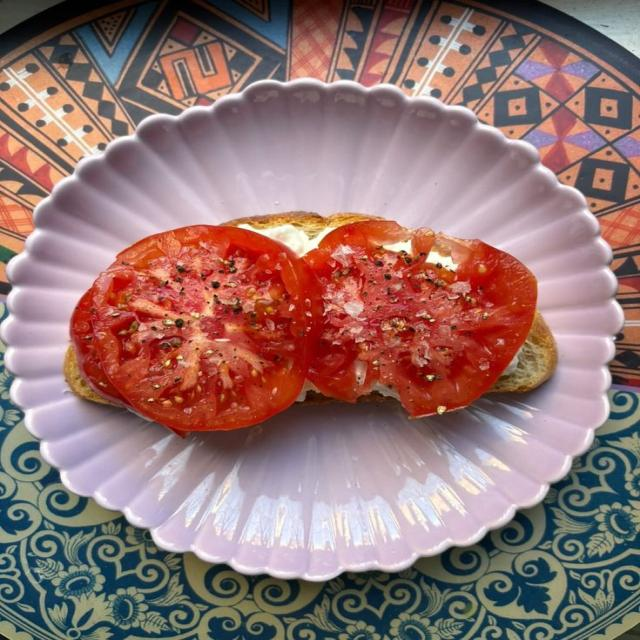sliced_bread: (224, 211, 379, 254), (487, 312, 556, 392), (65, 347, 112, 403), (358, 386, 390, 402), (301, 391, 333, 404)
sliced_tomato: (92, 226, 317, 430), (306, 221, 537, 416), (71, 291, 127, 405), (70, 291, 125, 403)
